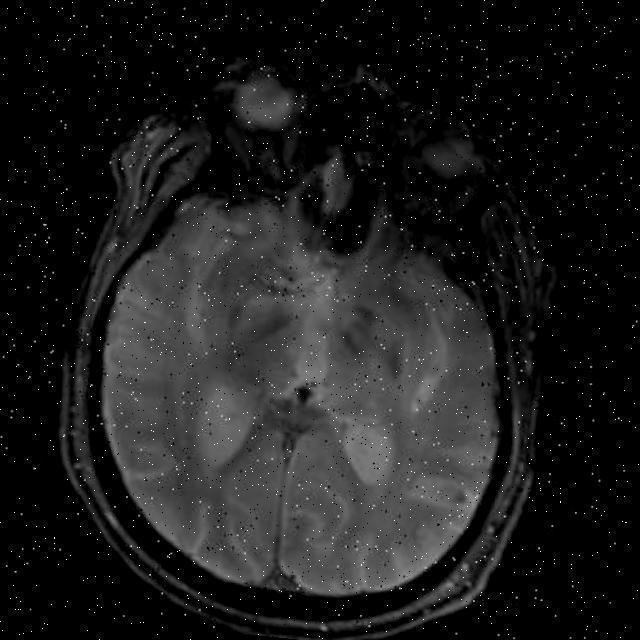EMCI: (163, 252, 303, 374), (336, 276, 428, 375)
